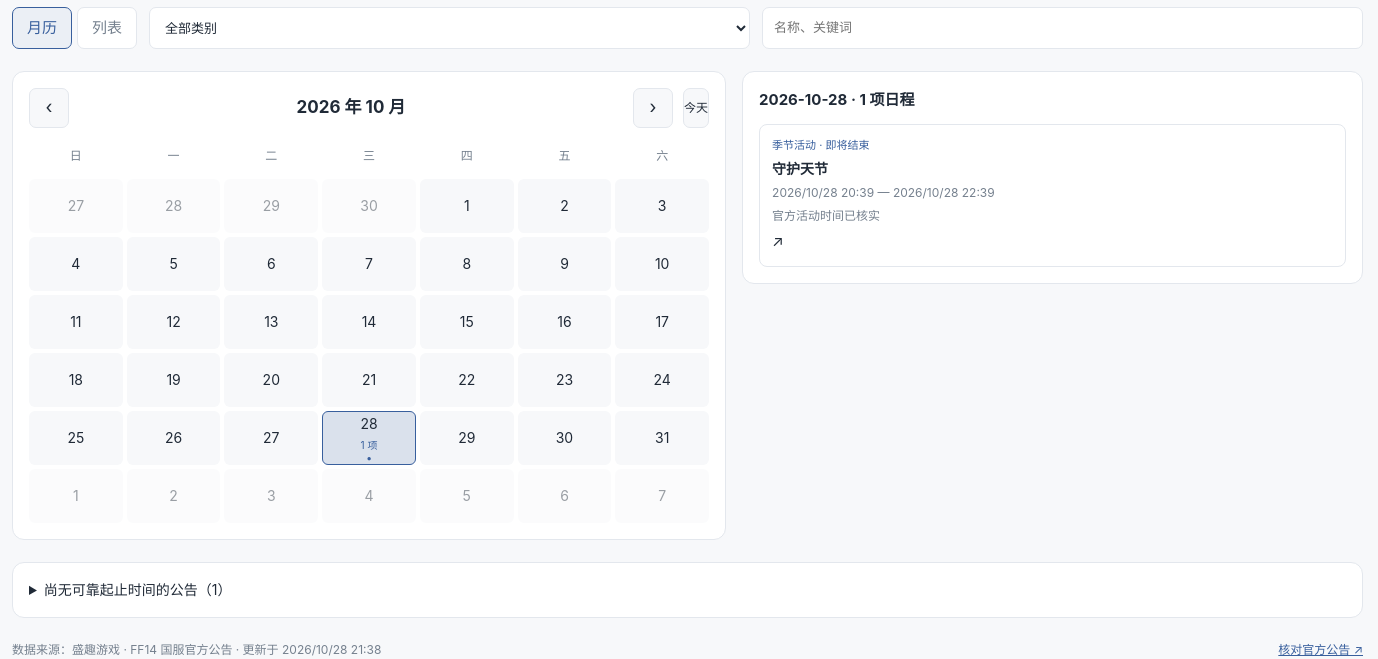
Test: 公开国服活动中心 › 未知官方日期仅在待核实区，绝不塞入月历日程
This screenshot has width=1378, height=659.
(page scrolled)
Expected: the text "官方时间待确认公告" is not shown
Click the heading "尚无可靠起止时间的公告（1）". click: (138, 589)
box: [44,581,232,598]
(page scrolled)
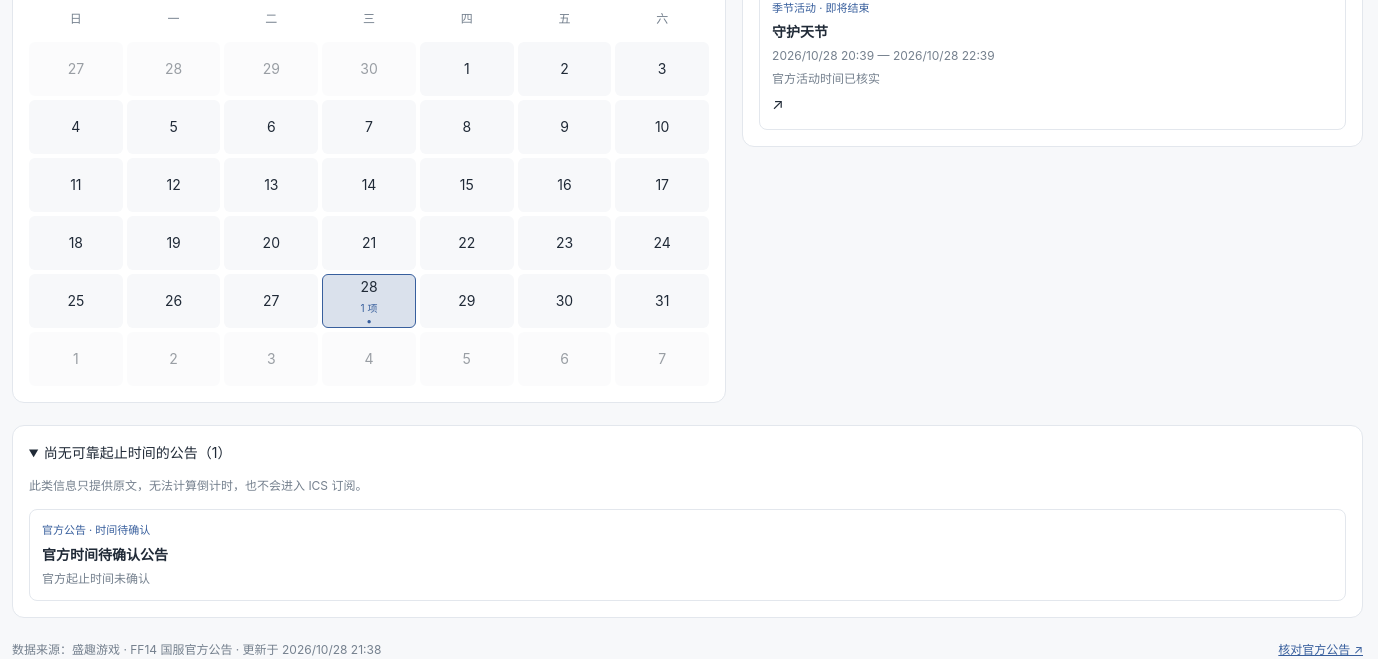
Now the text "官方时间待确认公告" is shown, box [42,546,168,563]
